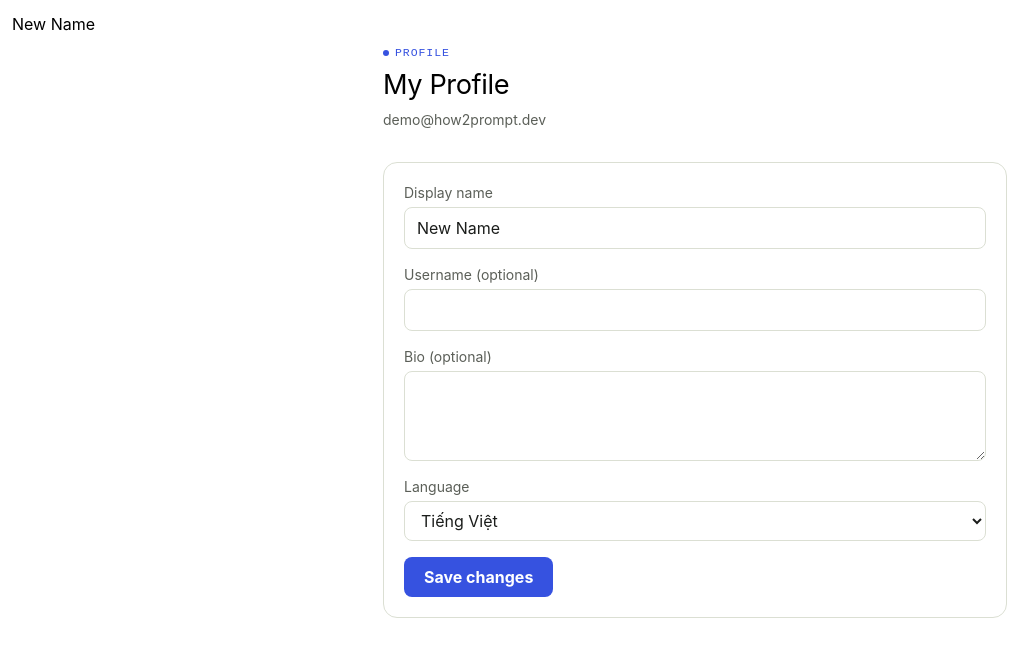
ProfileSettingsPage › shows an inline duplicate-username error without discarding other unsaved changes (Acceptance 3)
The width and height of the screenshot is (1024, 655).
Step 1. Replace the text in the field labelled "Display name" with "Unsaved Name" → (695, 228), box 404,207 -> 986,249
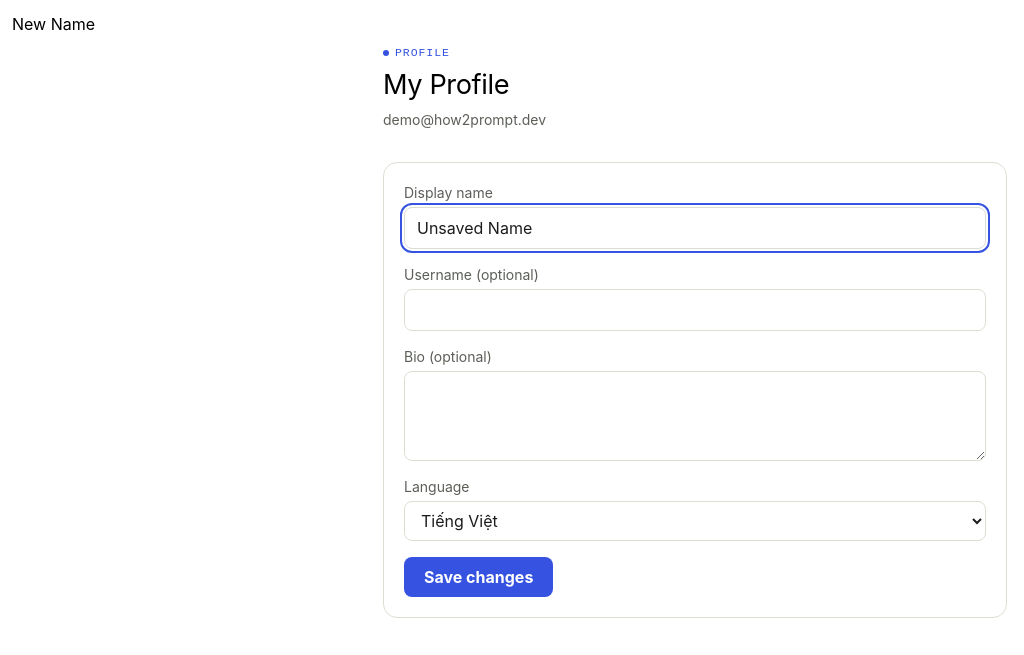
Step 2. Type "taken-name" into the field labelled "Username (optional)" → (695, 310), box 404,289 -> 986,331
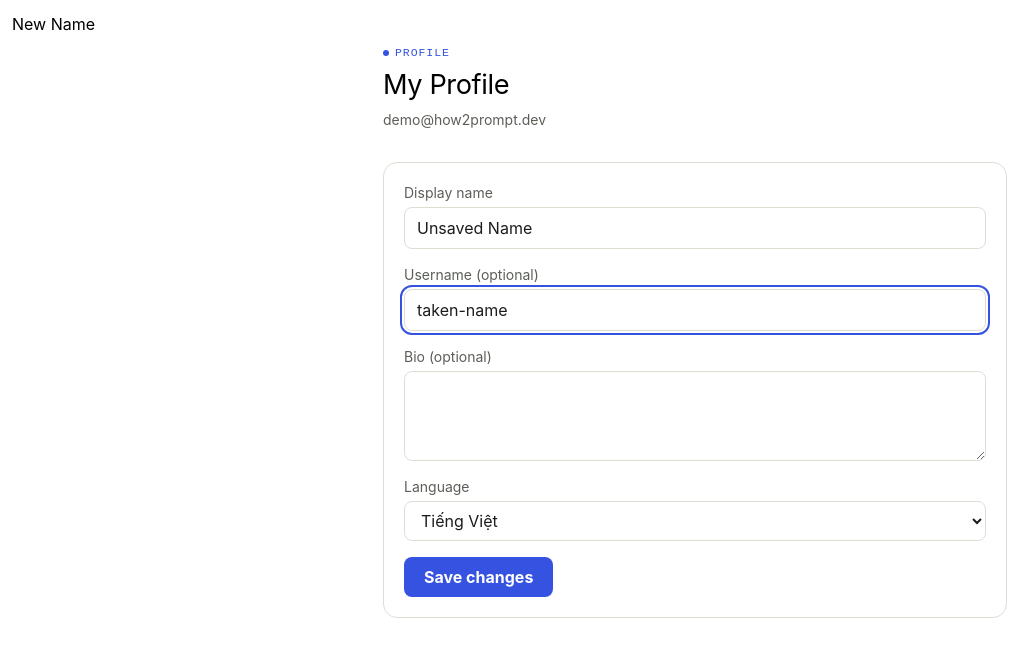
Step 3. Click the button "Save changes" → (479, 577), box 404,557 -> 553,597
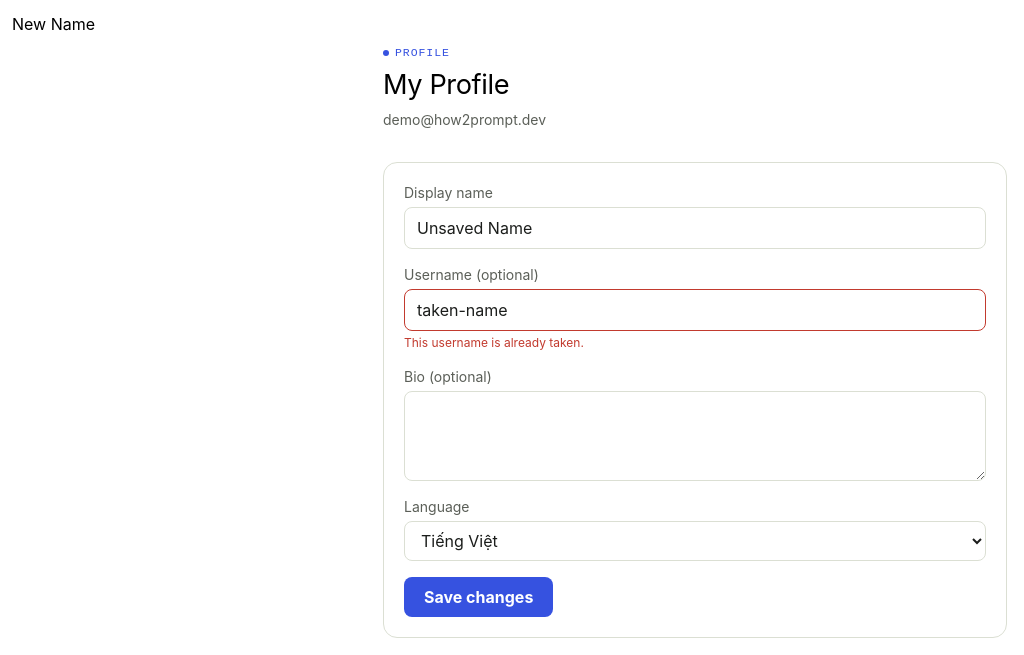
Now the text "This username is already taken." is shown, box 404,335 -> 584,350
